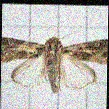Spodoptera litura: (1, 27, 108, 97)
